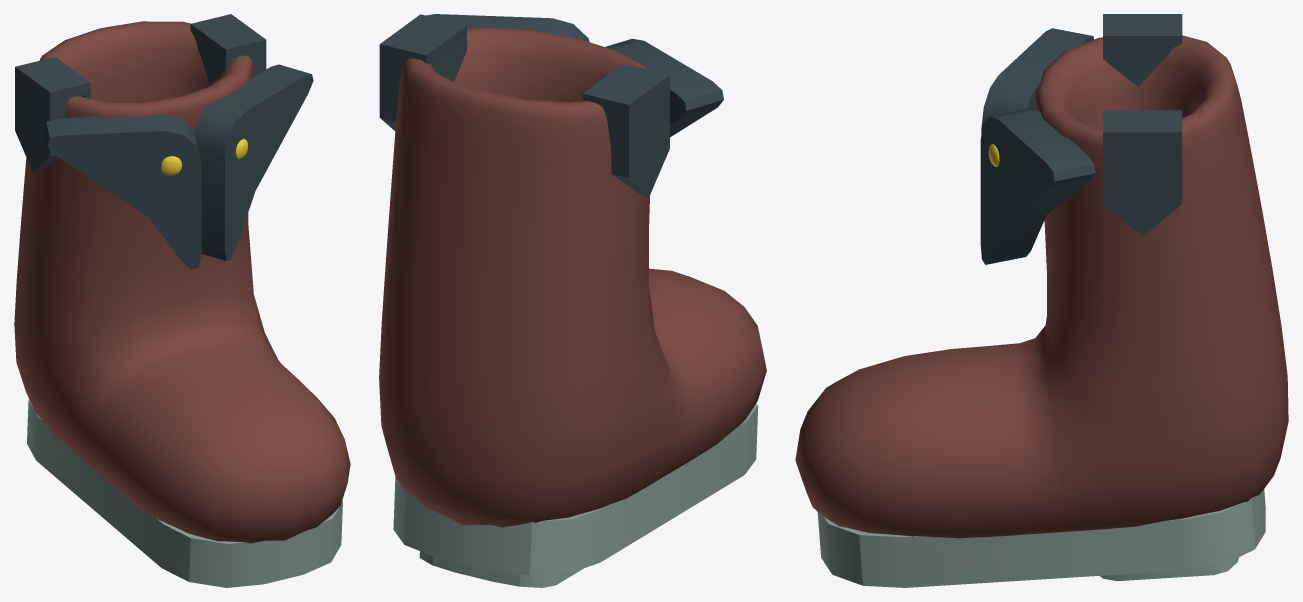
File: Boot.fbx
3 views of the same model, side by side, from view 1: azimuth 30°, elevation 25°; view 2: azimuth 150°, elevation 25°; view 3: azimuth 270°, elevation 25° (orthographic). The views are drawn at different scales.
Parts seen in each view (by area): view 1: Cube.004; view 2: Cube.004; view 3: Cube.004.
Boxes of the visible parts, <box> form: Cube.004: <box>14,14,350,587</box>; Cube.004: <box>379,14,766,587</box>; Cube.004: <box>795,14,1288,587</box>.
Bounding box in the file's own units: 247 × 375 × 351.
